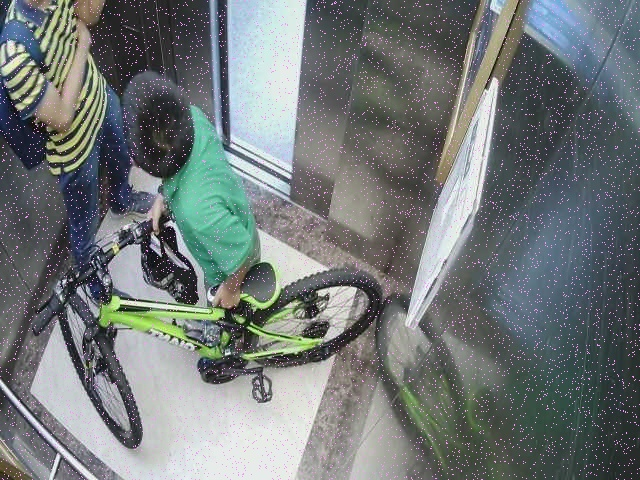bicycle: (42, 214, 384, 458)
person: (2, 1, 162, 306), (118, 67, 262, 381)
